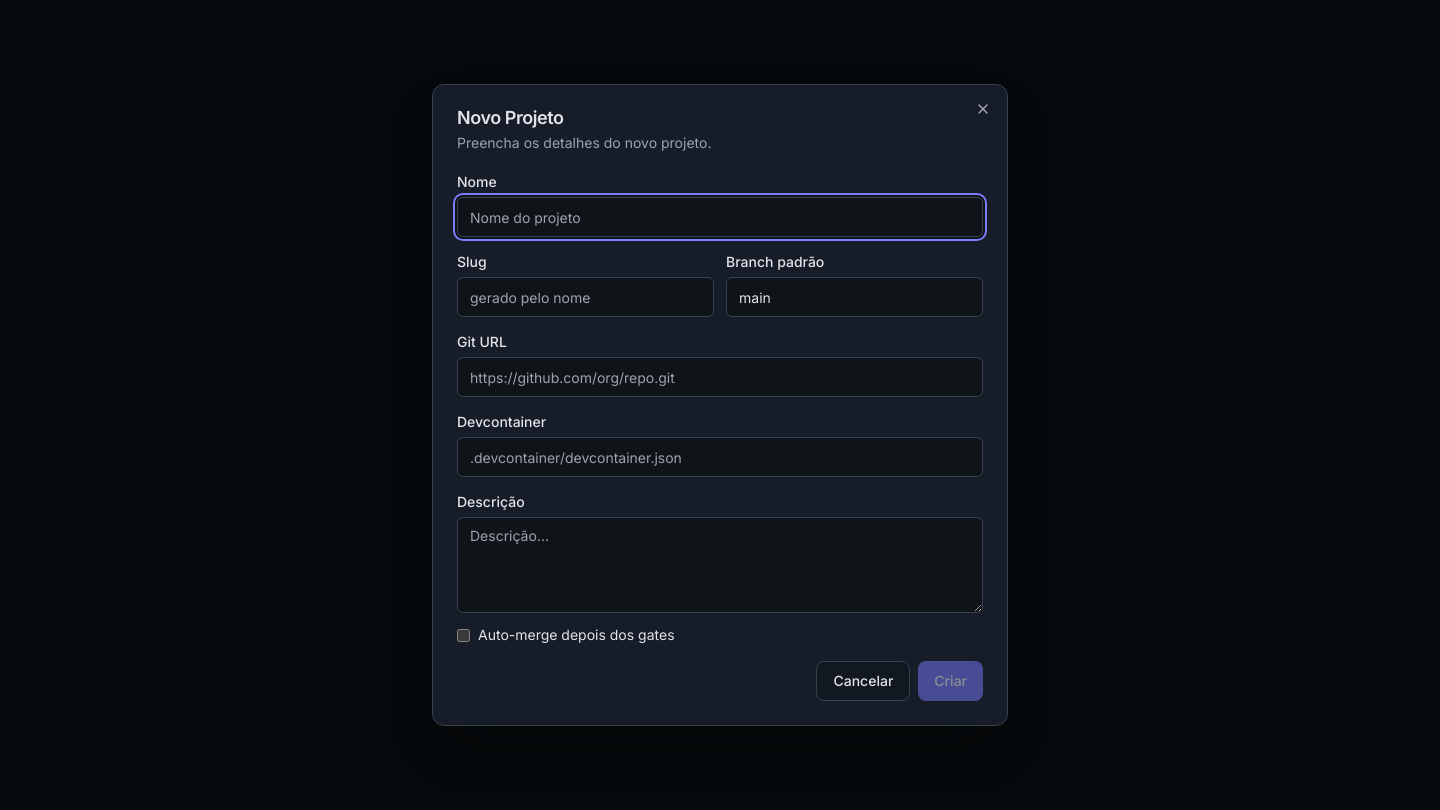
Test: ProjectDialog error rendering › renders the API error inline and keeps the dialog open on create failure
The width and height of the screenshot is (1440, 810).
Type "App" into the field with placeholder "Nome do projeto".
click(720, 217); type("App")  # box [457,197,983,237]
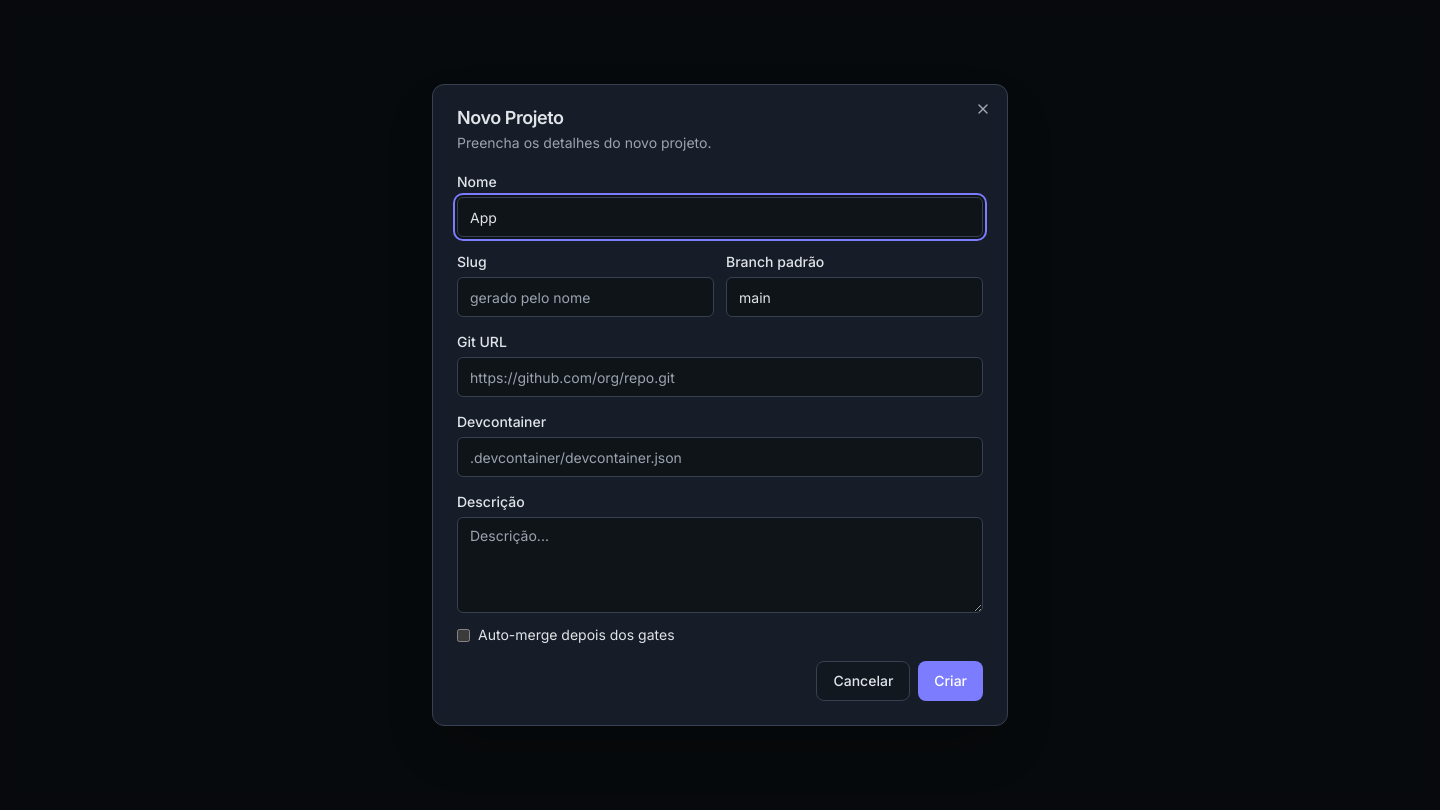
Click the button "Criar".
click(951, 681)  # box [918,661,983,701]
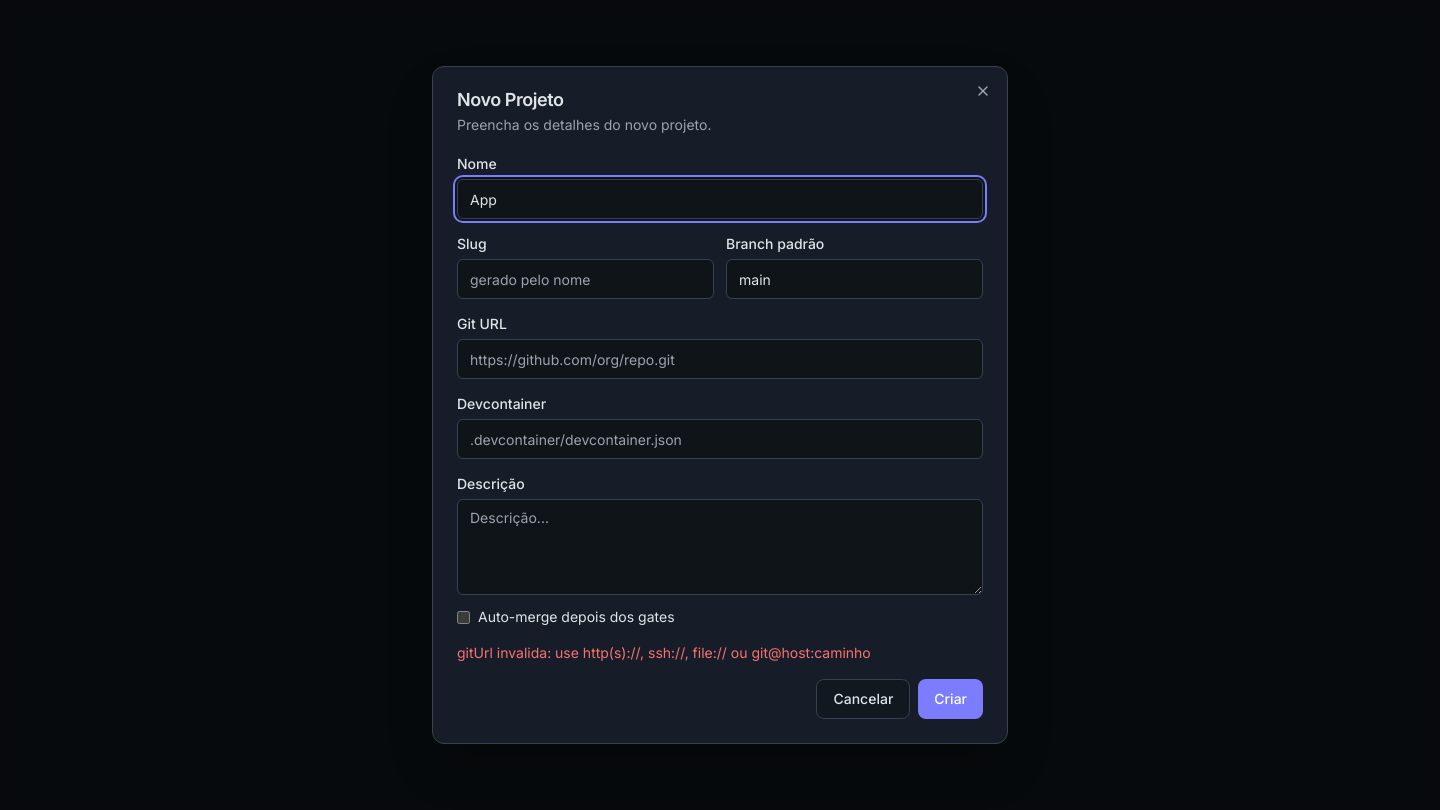
Expected: the text "gitUrl invalida" is shown, [457,644,871,661]
